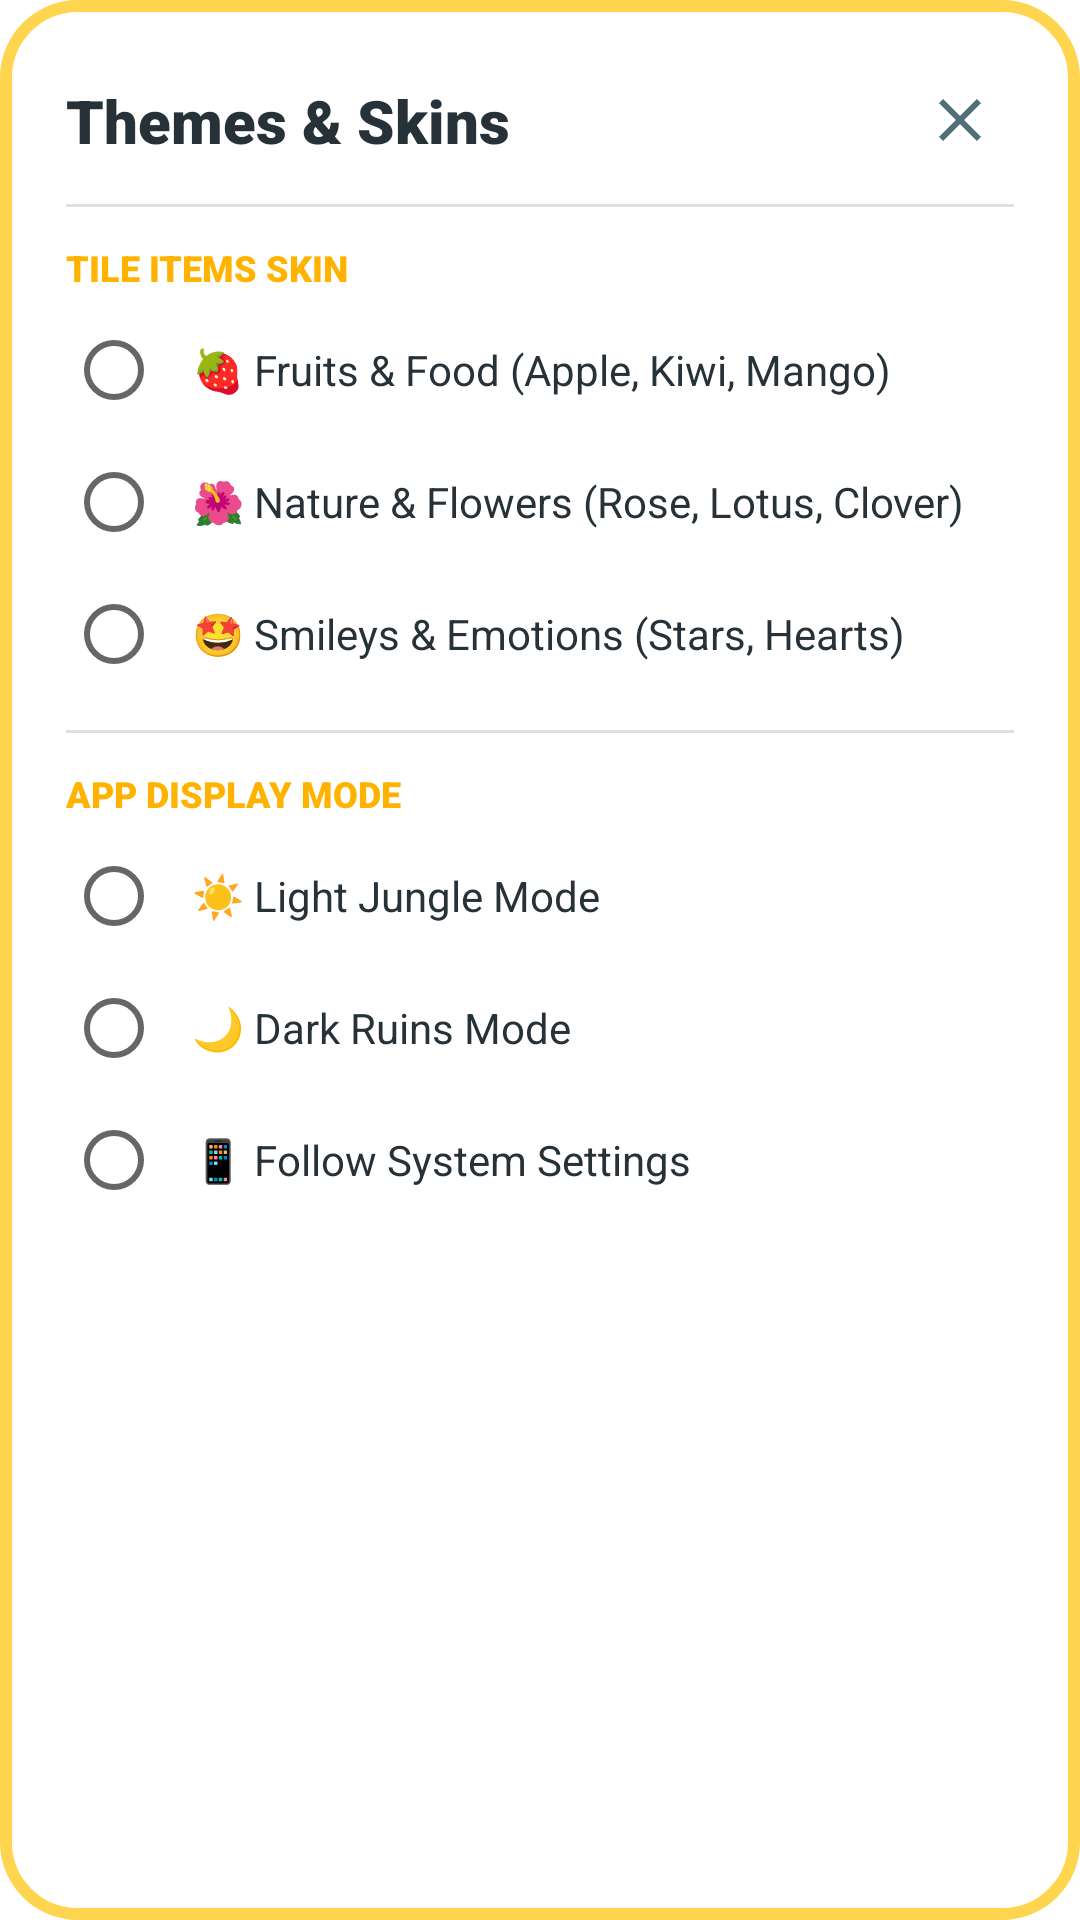

Icon bounding boxes for this 1080×1920 phone screenshot, format bbox=(x1, y1, x2, y2):
close: bbox=(939, 99, 981, 141)
